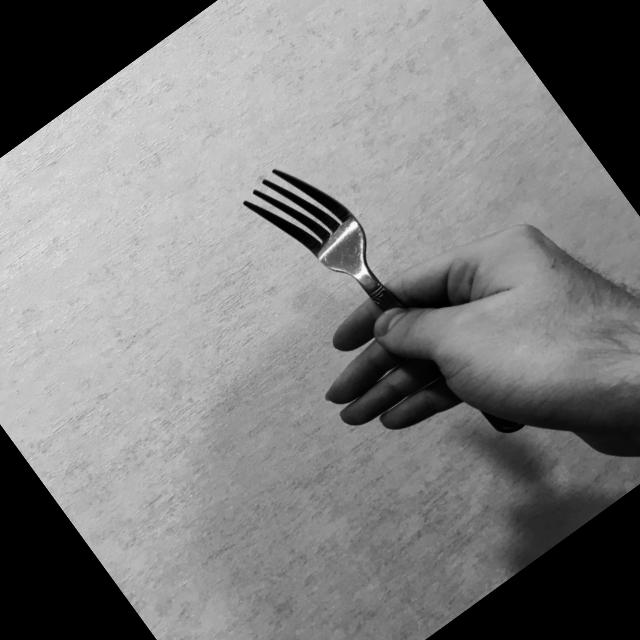fork: (232, 135, 526, 486)
